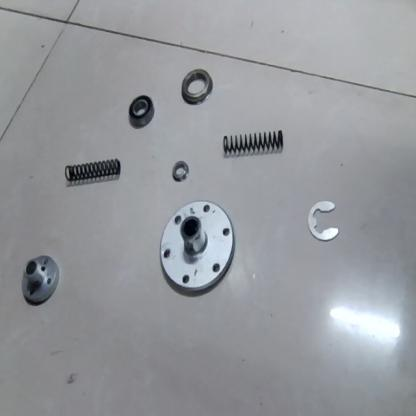FOD: (156, 197, 239, 300), (20, 252, 61, 310), (219, 125, 286, 160), (61, 154, 122, 186), (305, 199, 342, 244), (179, 68, 215, 106), (126, 93, 155, 132), (170, 158, 191, 184)
